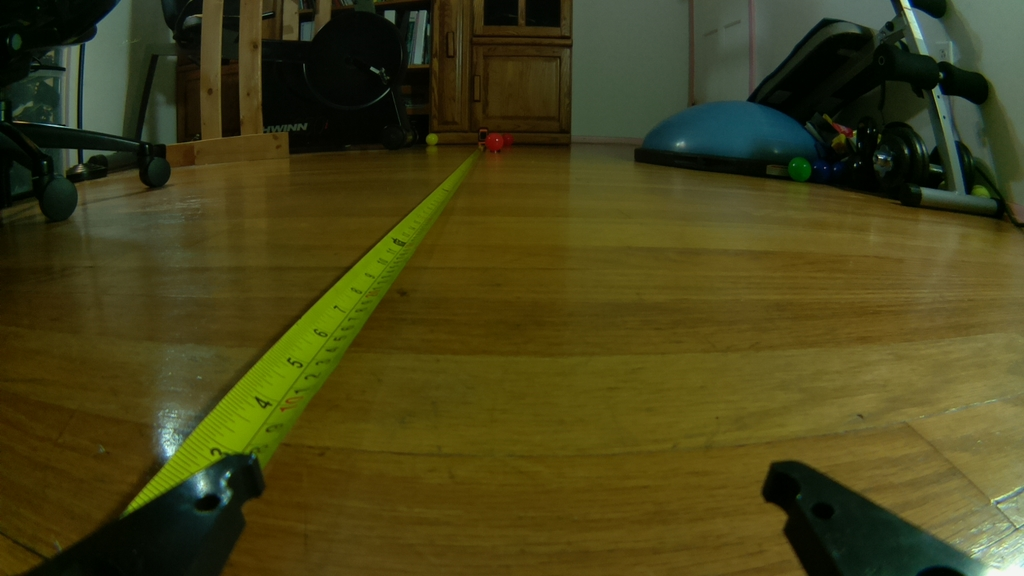ball: (481, 130, 505, 152)
